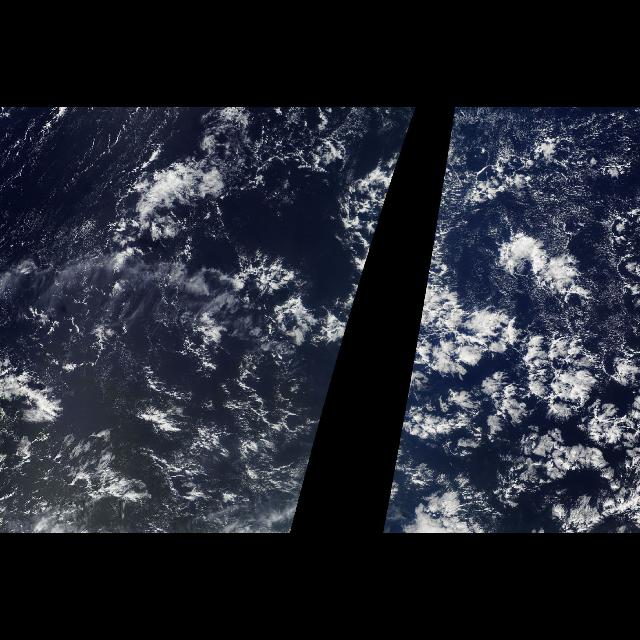Fish: (418, 258, 634, 530)
Flower: (380, 189, 636, 531), (354, 188, 390, 308)
Gravel: (154, 316, 310, 508), (548, 165, 640, 402)
Sugar: (1, 111, 153, 257)
